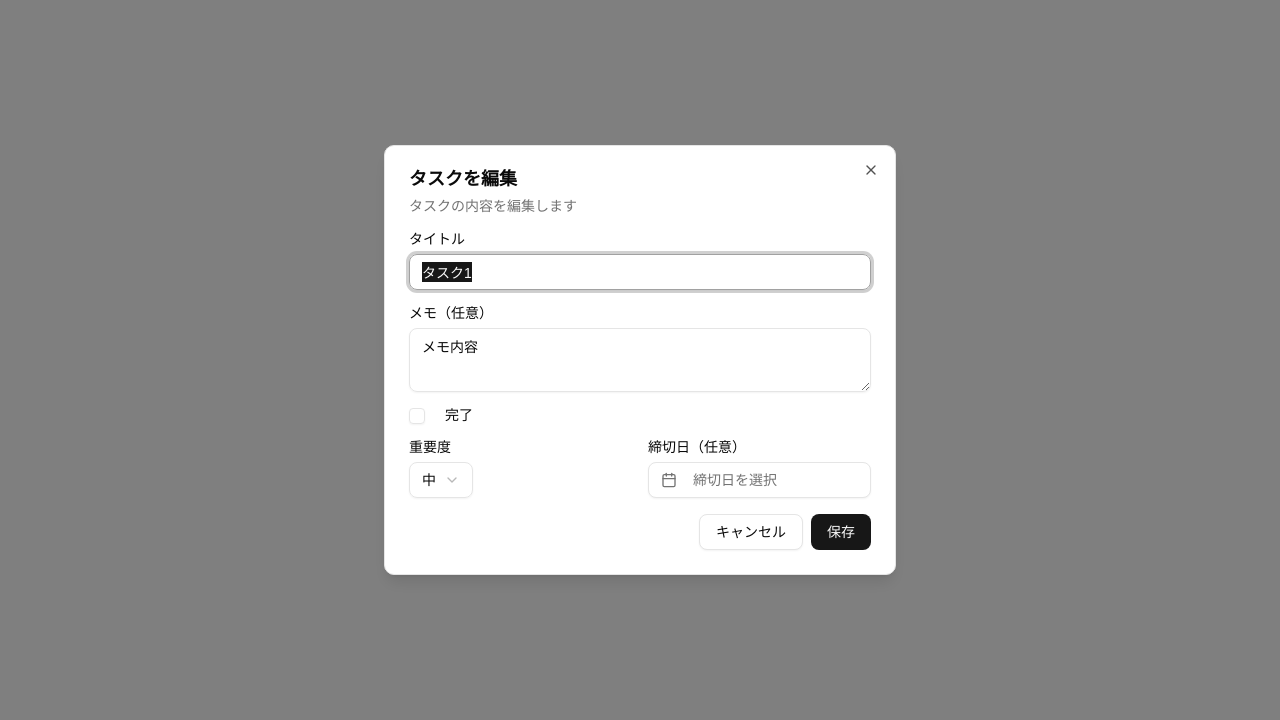
Test: TodoEditDialog › should show validation error for empty title
Clear the field labelled "タイトル" at (640, 272), box [409,254,871,290]
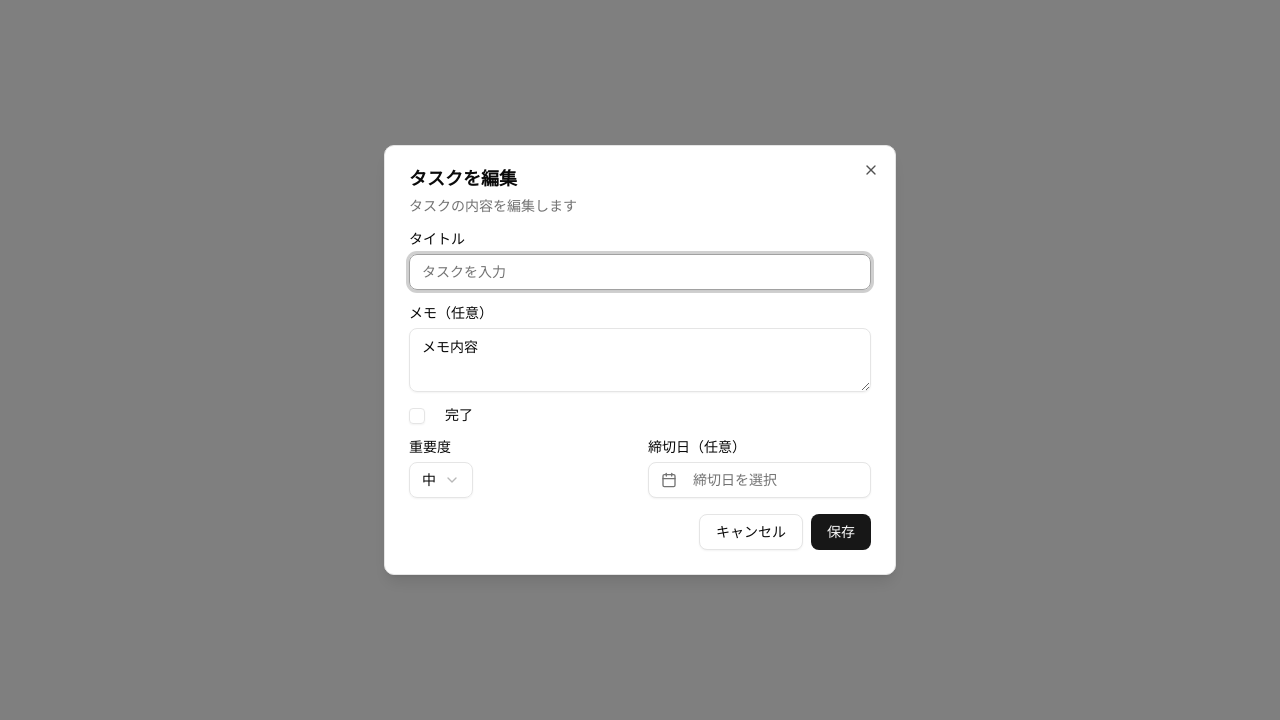
Click the button "保存".
click(841, 532)  # box [811,514,871,550]
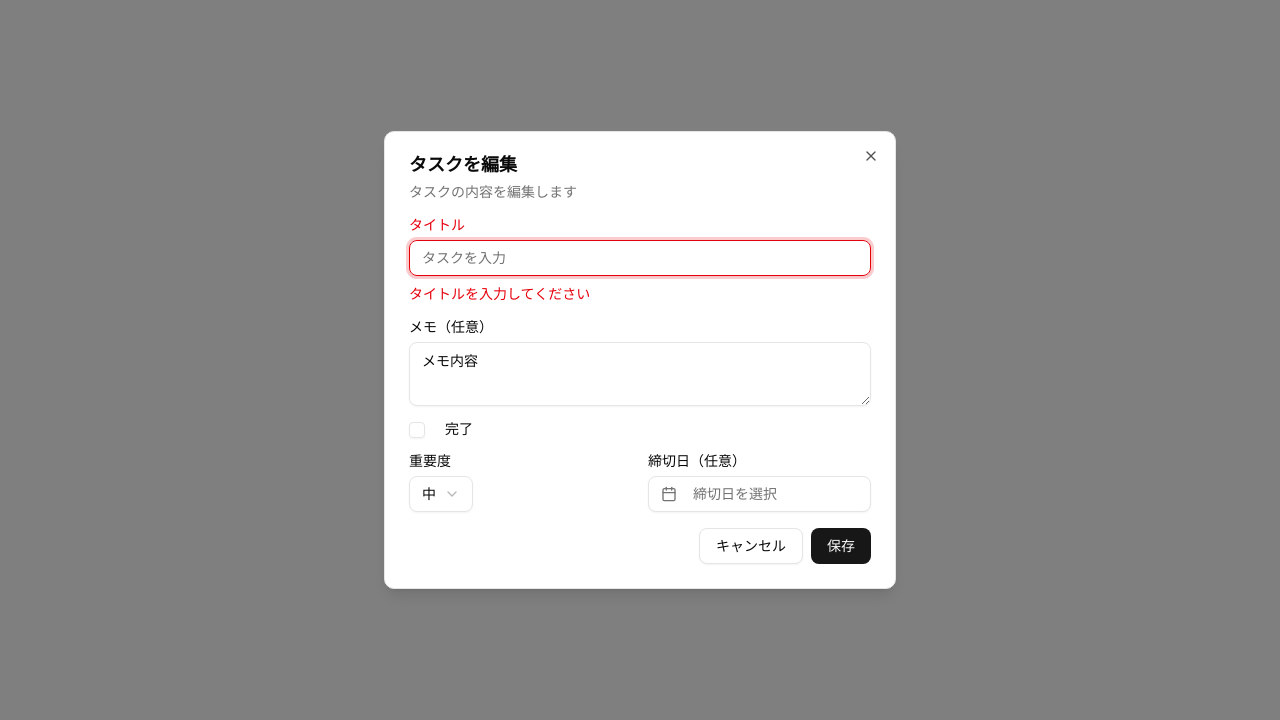
Check: the text "タイトルを入力してください" is shown, box [409,286,590,302]
